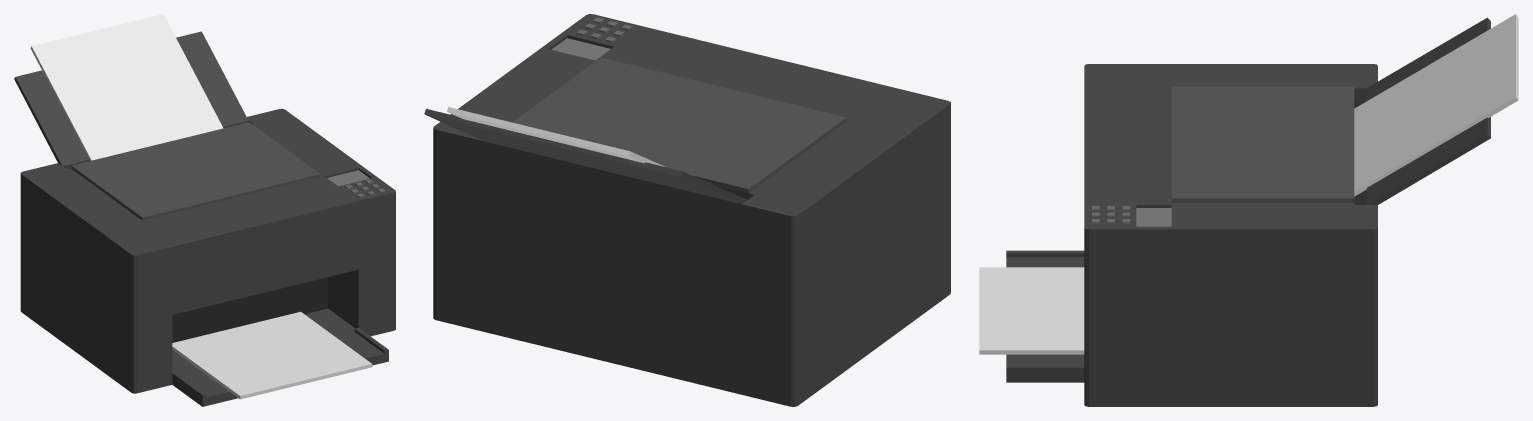
The model's file is Printer_01.fbx.
3 renders of one model, left to right at view 1: azimuth 30°, elevation 25°; view 2: azimuth 150°, elevation 25°; view 3: azimuth 270°, elevation 25°, orthographic. The views are drawn at different scales.
Visible parts, largest first — view 1: Printer_01; view 2: Printer_01; view 3: Printer_01.
Part boxes in pixels (x1,y1,x2,y2): Printer_01: [14, 14, 395, 406]; Printer_01: [424, 14, 950, 406]; Printer_01: [979, 14, 1518, 406].
Size of the model in its own units: 46.62 by 35.29 by 64.14.
